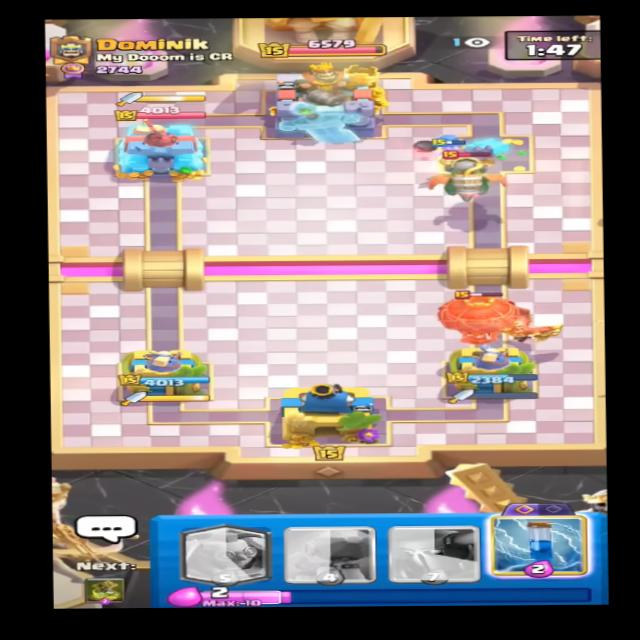Balloon: (439, 291, 527, 350)
Infernodragon: (419, 148, 513, 204)
